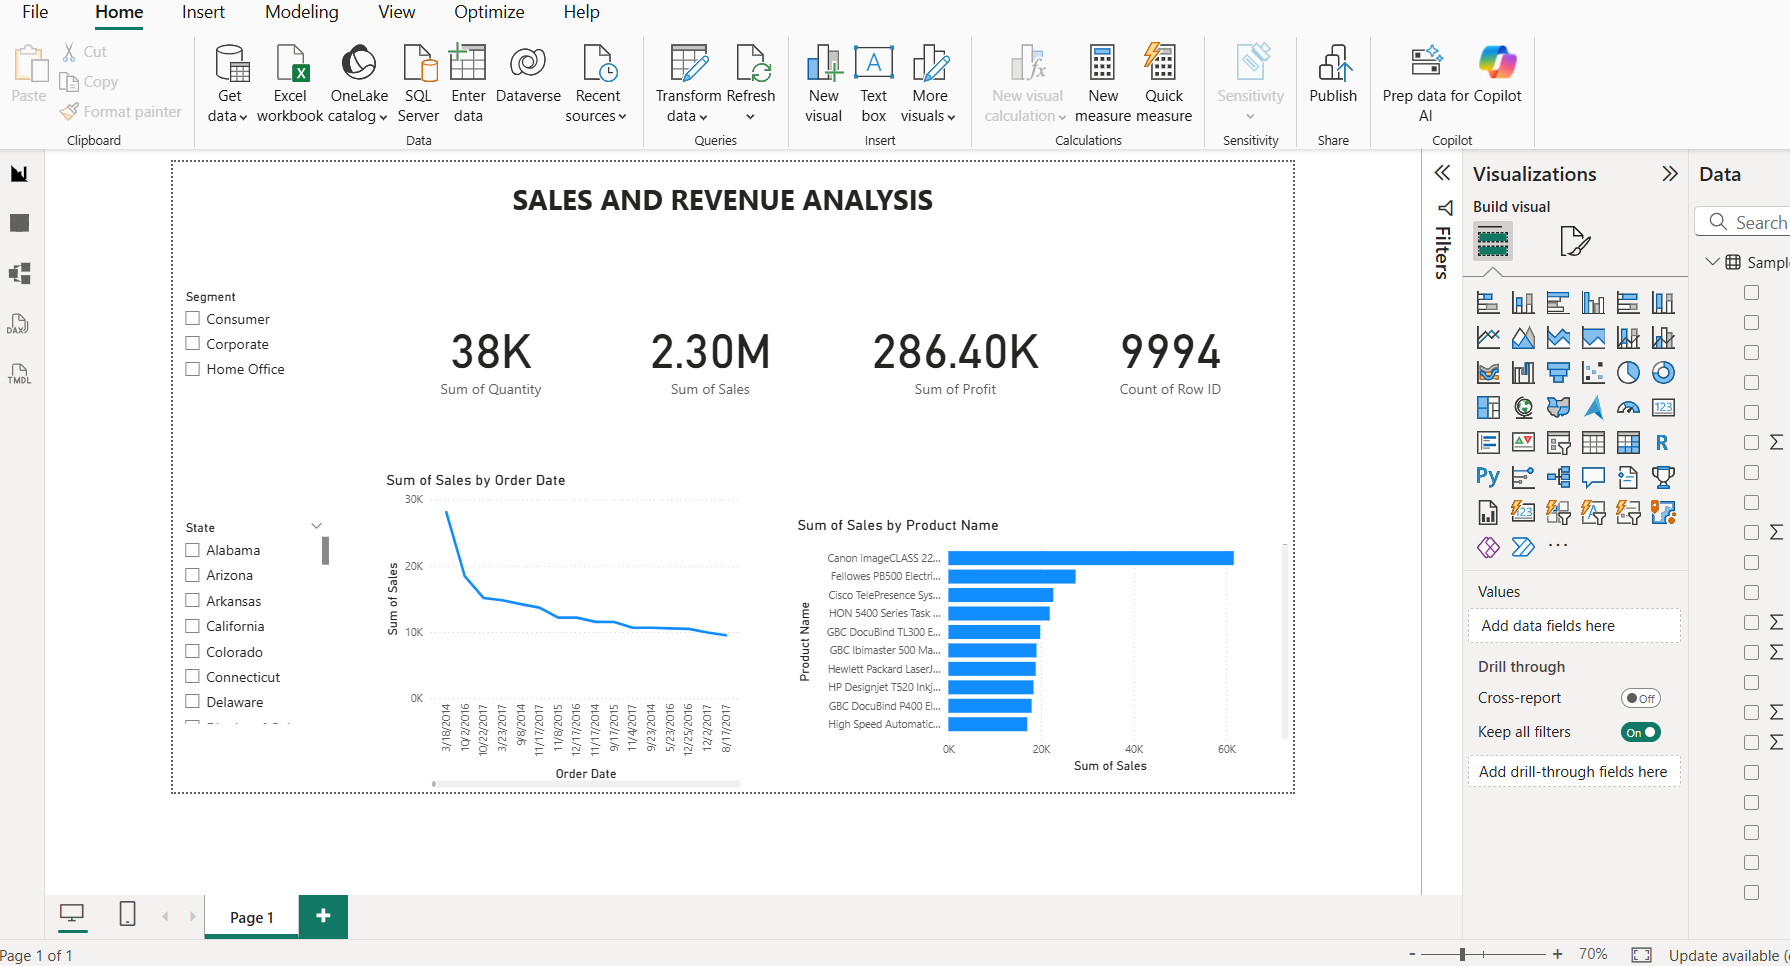

The page's visual inventory and layout, read from the dashboard file:
{"tool":"powerbi","page":{"name":"Page 1","canvas":[1280,720],"ordinal":0},"visuals":[{"type":"card","fields":{"Values":["Sum(Sample - Superstore.Sales)"]},"box":[474.3,80,280,280],"z":0},{"type":"card","fields":{"Values":["Sum(Sample - Superstore.Profit)"]},"box":[754.3,80,280,280],"z":1000},{"type":"card","fields":{"Values":["Sum(Sample - Superstore.Quantity)"]},"box":[224.3,80,278.6,280],"z":2000},{"type":"card","fields":{"Values":["CountNonNull(Sample - Superstore.Row ID)"]},"box":[1000,80,280,280],"z":3000},{"type":"lineChart","fields":{"Category":["Sample - Superstore.Order Date"],"Y":["Sum(Sample - Superstore.Sales)"]},"box":[238.6,352.9,415.7,367.1],"z":4000},{"type":"barChart","fields":{"Category":["Sample - Superstore.Product Name"],"Y":["Sum(Sample - Superstore.Sales)"]},"box":[708.6,404.3,571.4,298.6],"z":5000},{"type":"slicer","fields":{"Values":["Sample - Superstore.State"]},"box":[1.4,404.3,181.4,242.9],"z":6000},{"type":"slicer","fields":{"Values":["Sample - Superstore.Segment"]},"box":[1.4,140,181.4,127.1],"z":7000},{"type":"textbox","box":[100,100,300,40],"z":8000},{"type":"textbox","box":[382.9,15.7,651.4,64.3],"z":8001}]}

Visuals, with their boxes on the page's 1280x720 design canvas (x1, y1, x2, y2). These are canvas units, not pixel positions in the 1790x966 screenshot, which may show the page scaled, cropped or inside an application window:
card - Sum(Sample - Superstore.Sales): locate(474, 80, 754, 360)
card - Sum(Sample - Superstore.Profit): locate(754, 80, 1034, 360)
card - Sum(Sample - Superstore.Quantity): locate(224, 80, 503, 360)
card - CountNonNull(Sample - Superstore.Row ID): locate(1000, 80, 1280, 360)
lineChart - Sample - Superstore.Order Date x Sum(Sample - Superstore.Sales): locate(239, 353, 654, 720)
barChart - Sample - Superstore.Product Name x Sum(Sample - Superstore.Sales): locate(709, 404, 1280, 703)
slicer - Sample - Superstore.State: locate(1, 404, 183, 647)
slicer - Sample - Superstore.Segment: locate(1, 140, 183, 267)
textbox: locate(100, 100, 400, 140)
textbox: locate(383, 16, 1034, 80)
